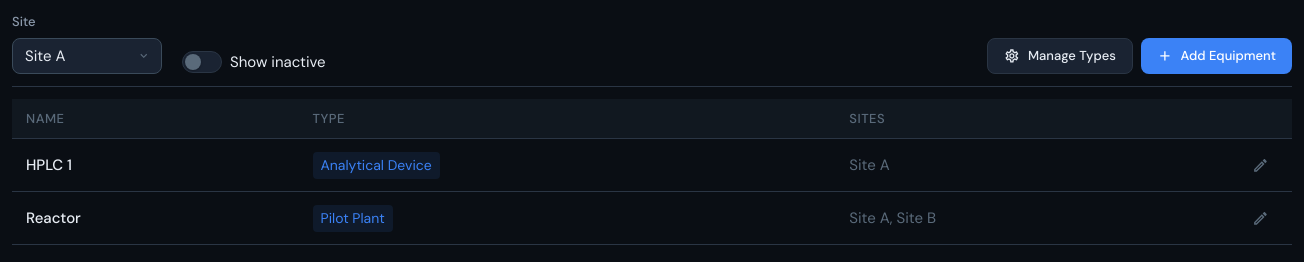
it: EquipmentPanel › filters by any of the linked sites
Expected: the text "Reactor" is shown, left=26, top=207, right=81, bottom=229
Select "Site B" in the dropdown labelled "Site" at (87,56), box left=12, top=38, right=162, bottom=74
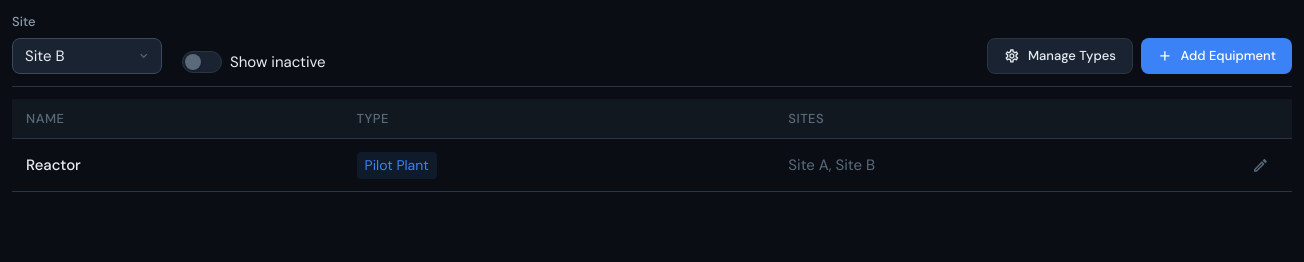
Expected: the text "Reactor" is shown, left=26, top=154, right=81, bottom=176
Result: the text "HPLC 1" is gone
